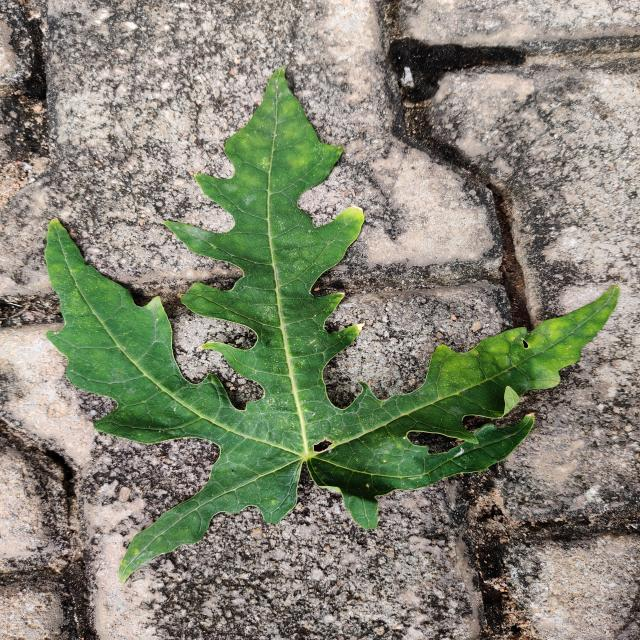papaya: (45, 69, 618, 580)
